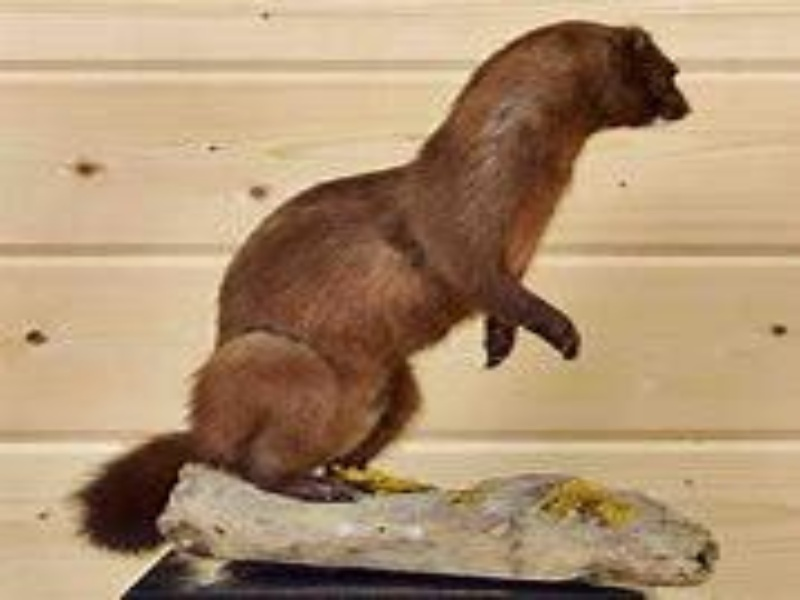minkish: (75, 16, 693, 553)
